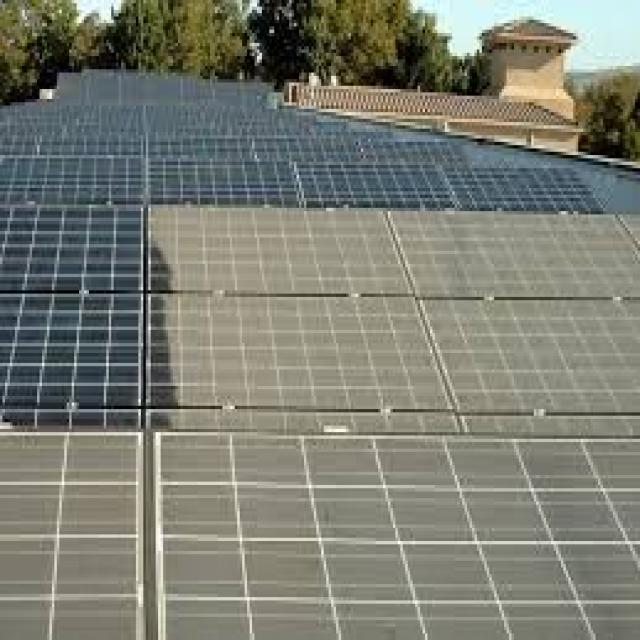Anomaly Solar Panel: (147, 433, 638, 639), (146, 294, 467, 435), (420, 298, 640, 437), (0, 430, 145, 638), (146, 204, 414, 294), (388, 209, 640, 299)
Normal Solar Panel: (0, 293, 145, 429), (0, 206, 145, 292)
Surface Contaminant: (155, 432, 639, 639), (159, 294, 468, 433), (420, 300, 640, 434), (0, 432, 141, 639), (150, 206, 413, 294), (390, 210, 639, 300), (618, 208, 639, 243)
